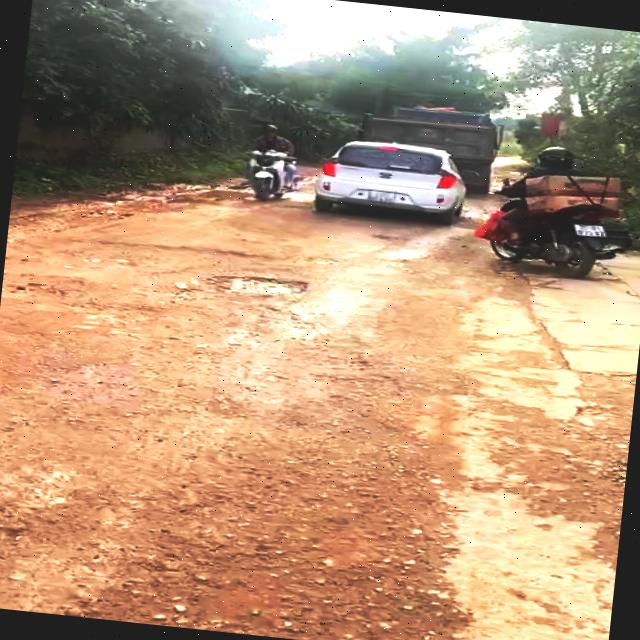pothole: (198, 266, 316, 306)
